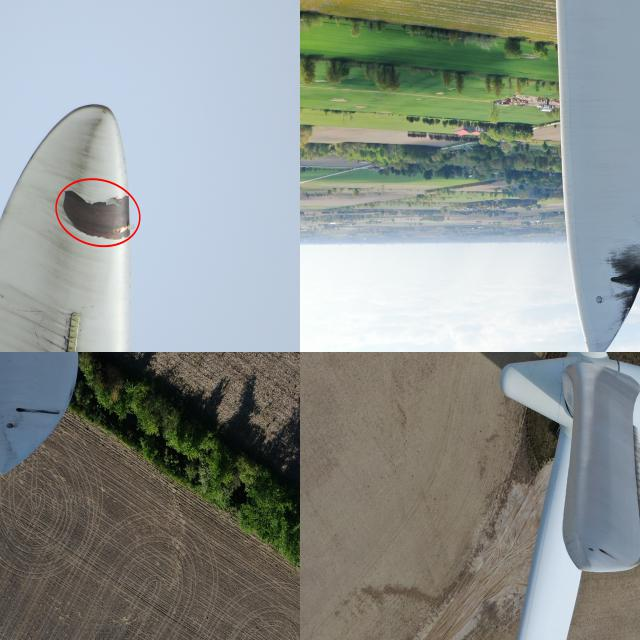damage: (56, 188, 132, 240), (602, 224, 639, 329), (14, 402, 64, 416), (595, 542, 622, 564)
